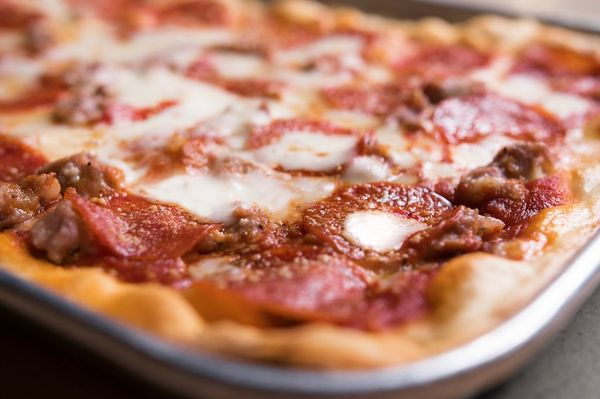sandwich: (0, 2, 598, 366)
